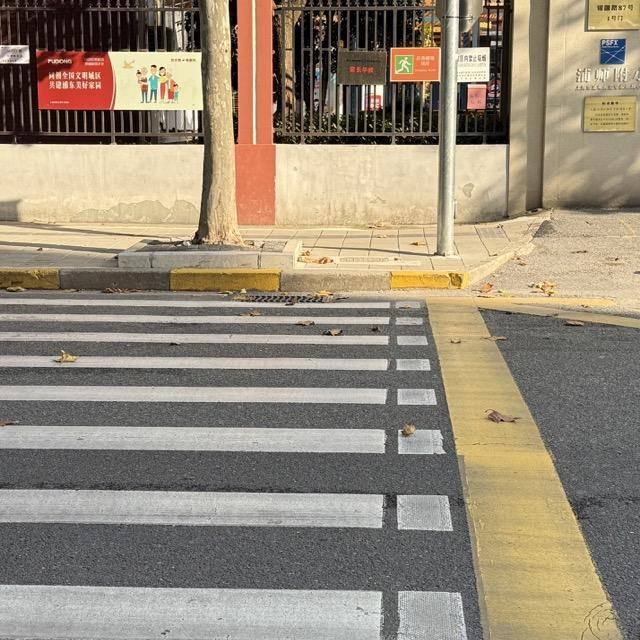curb: (0, 251, 513, 293), (117, 240, 301, 269)
